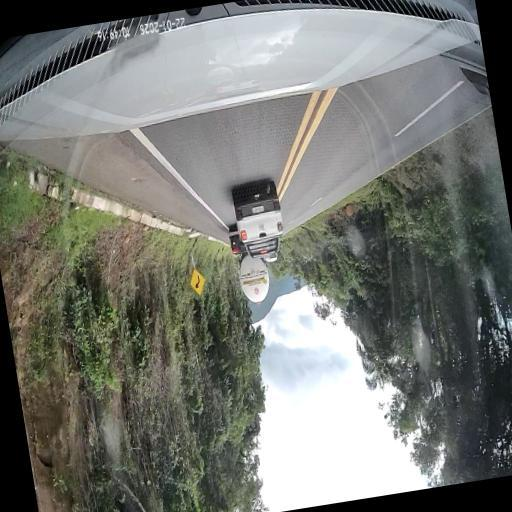A-2b: (186, 266, 206, 296)
